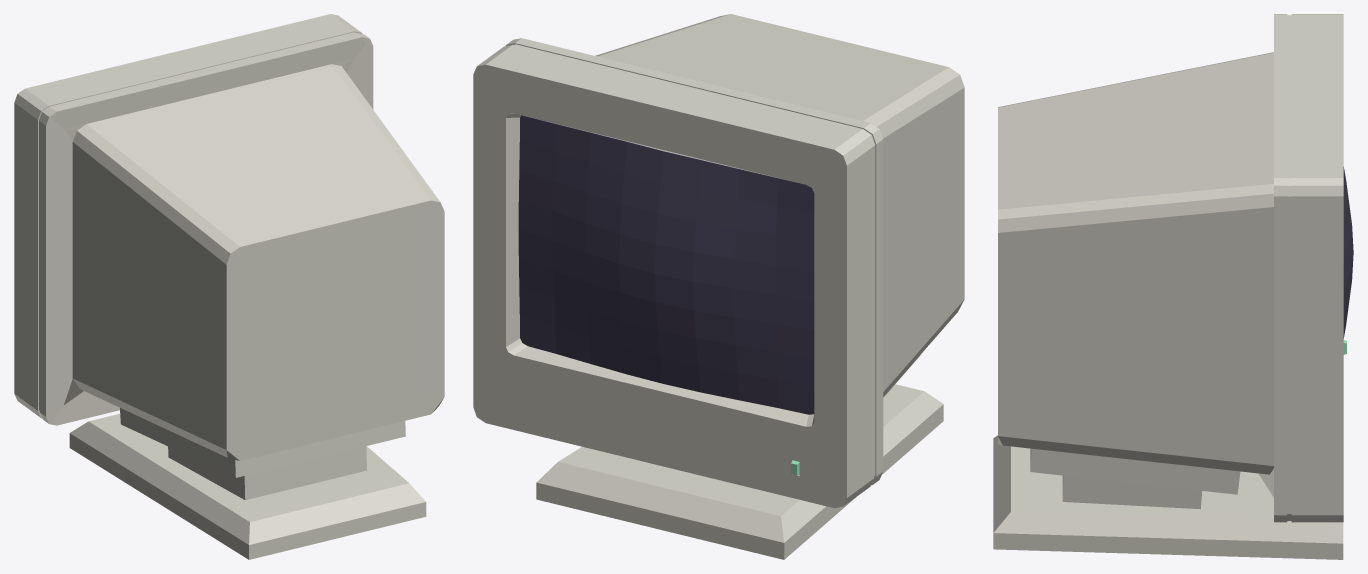
File: CT_Monitor_2.fbx
3 views of the same model, side by side, from view 1: azimuth 30°, elevation 25°; view 2: azimuth 150°, elevation 25°; view 3: azimuth 270°, elevation 25° (orthographic). The views are drawn at different scales.
Visible parts, largest first — view 1: Monitor; view 2: Monitor, Screen; view 3: Monitor, Screen.
Boxes of the visible parts, x1,y1,x2,y2 form: Monitor: (14, 14, 444, 559); Monitor: (473, 14, 964, 559); Screen: (518, 115, 814, 414); Monitor: (993, 14, 1346, 559); Screen: (1343, 167, 1353, 338).
Bounding box in the file's own units: 120 × 130 × 104.
